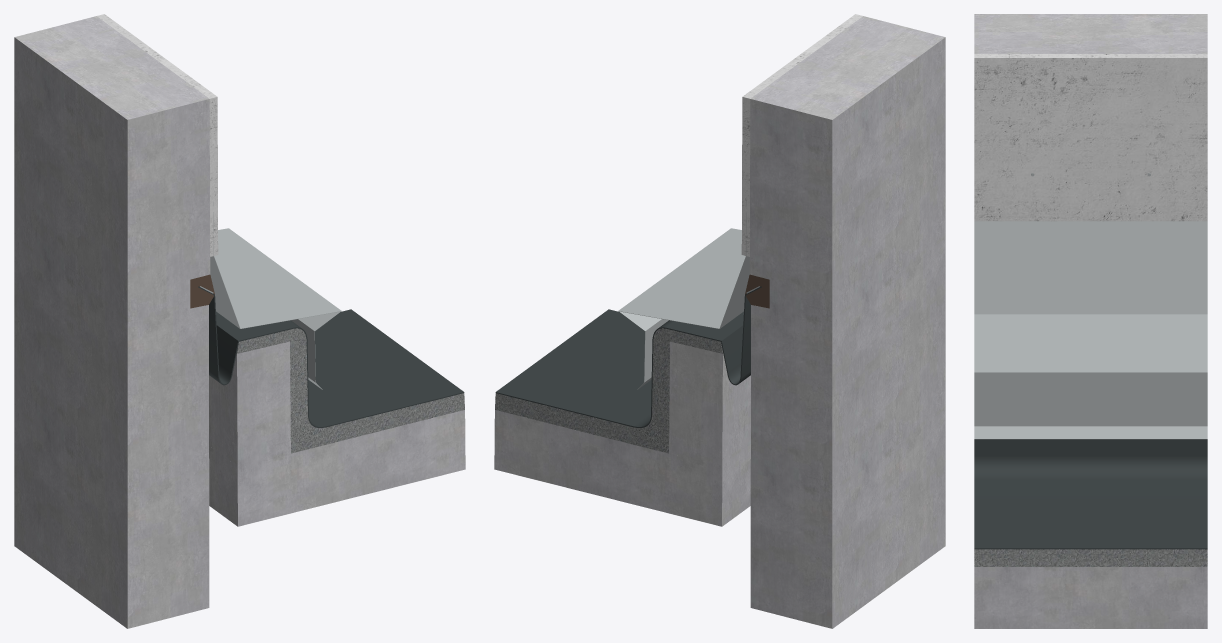
File: coating-high-low-roof-flashing.glb
3 views of the same model, side by side, from view 1: azimuth 30°, elevation 25°; view 2: azimuth 150°, elevation 25°; view 3: azimuth 270°, elevation 25° (orthographic). The views are drawn at different scales.
Visible parts, largest first — view 1: 高侧墙体, 低屋面结构板, 防水卷材及U形跨缝段, 低屋面矮墙, 镀锌薄钢板盖缝, 找平找坡砂浆, 水泥砂浆抹灰, 嵌缝油膏; view 2: 高侧墙体, 低屋面结构板, 防水卷材及U形跨缝段, 低屋面矮墙, 镀锌薄钢板盖缝, 找平找坡砂浆, 水泥砂浆抹灰, 嵌缝油膏; view 3: 镀锌薄钢板盖缝, 水泥砂浆抹灰, 防水卷材及U形跨缝段, 低屋面结构板, 高侧墙体, 找平找坡砂浆.
Boxes of the visible parts, left/top/right/bottom form: 高侧墙体: left=14, top=16, right=210, bottom=628; 低屋面结构板: left=209, top=410, right=465, bottom=526; 防水卷材及U形跨缝段: left=198, top=286, right=464, bottom=427; 低屋面矮墙: left=209, top=341, right=290, bottom=466; 镀锌薄钢板盖缝: left=210, top=202, right=341, bottom=389; 找平找坡砂浆: left=236, top=328, right=464, bottom=453; 水泥砂浆抹灰: left=97, top=14, right=218, bottom=256; 嵌缝油膏: left=190, top=274, right=214, bottom=308; 高侧墙体: left=749, top=16, right=945, bottom=628; 低屋面结构板: left=494, top=410, right=750, bottom=526; 防水卷材及U形跨缝段: left=495, top=286, right=761, bottom=427; 低屋面矮墙: left=669, top=341, right=750, bottom=466; 镀锌薄钢板盖缝: left=618, top=202, right=749, bottom=389; 找平找坡砂浆: left=495, top=328, right=723, bottom=453; 水泥砂浆抹灰: left=741, top=14, right=862, bottom=256; 嵌缝油膏: left=745, top=274, right=769, bottom=308; 镀锌薄钢板盖缝: left=974, top=221, right=1207, bottom=439; 水泥砂浆抹灰: left=974, top=54, right=1207, bottom=221; 防水卷材及U形跨缝段: left=974, top=439, right=1207, bottom=549; 低屋面结构板: left=974, top=567, right=1207, bottom=628; 高侧墙体: left=974, top=14, right=1207, bottom=53; 找平找坡砂浆: left=974, top=549, right=1207, bottom=566.
Size of the model in its own units: 1.04 by 1.49 by 0.6.
8 materials, 5 textured.
